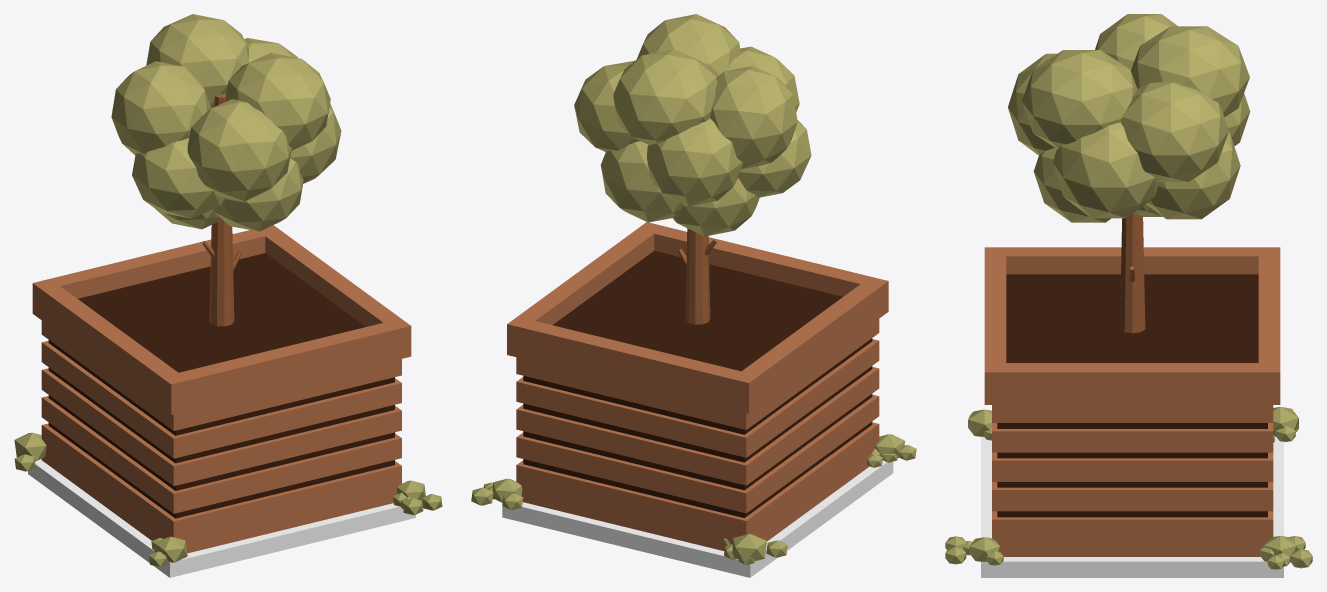
Rendered from 38-tree-planter-box-bs2.glb.
3 views of the same model, side by side, from view 1: azimuth 30°, elevation 25°; view 2: azimuth 150°, elevation 25°; view 3: azimuth 270°, elevation 25° (orthographic). The views are drawn at different scales.
Parts seen in each view (by area): view 1: SoilInside, RimS, Slat3, Slat4, Slat2, Slat1, SoilBed, Lobe6, GrooveCore, Lobe4, Lobe3, Slat5 (+13 smaller); view 2: SoilInside, RimN, Slat2, Slat4, Slat3, Slat1, SoilBed, Lobe2, GrooveCore, Lobe4, Slat5, RimW (+12 smaller); view 3: SoilInside, RimE, SoilBed, Lobe3, Lobe5, Slat2, GrooveCore, Lobe8, Slat4, Slat3, Slat1, Lobe2 (+15 smaller).
Boxes of the visible parts, x1,y1,x2,y2 form: SoilInside: (78, 253, 365, 372); RimS: (161, 318, 411, 414); Slat3: (41, 368, 401, 486); Slat4: (41, 340, 401, 458); Slat2: (41, 396, 401, 513); Slat1: (41, 423, 401, 539); SoilBed: (28, 459, 415, 577); Lobe6: (187, 99, 291, 201); GrooveCore: (48, 340, 394, 518); Lobe4: (111, 61, 211, 155); Lobe3: (225, 53, 330, 150); Slat5: (41, 320, 401, 430); SoilInside: (553, 250, 842, 371); RimN: (507, 316, 758, 413); Slat2: (516, 394, 879, 513); Slat4: (516, 339, 879, 457); Slat3: (516, 367, 879, 485); Slat1: (516, 422, 879, 537); SoilBed: (502, 460, 893, 577); Lobe2: (613, 49, 717, 145); GrooveCore: (523, 338, 872, 517); Lobe4: (710, 66, 797, 169); Slat5: (516, 319, 879, 429); RimW: (742, 284, 878, 406); SoilInside: (1006, 274, 1258, 362); RimE: (1006, 363, 1258, 404); SoilBed: (981, 436, 1283, 577); Lobe3: (1021, 50, 1137, 149); Lobe5: (1121, 82, 1228, 181); Slat2: (992, 482, 1273, 511); GrooveCore: (997, 423, 1267, 517); Lobe8: (1052, 122, 1159, 218); Slat4: (992, 423, 1273, 452); Slat3: (992, 452, 1273, 481); Slat1: (992, 511, 1273, 540); Lobe2: (1131, 26, 1249, 116).
Size of the model in its own units: 1.99 by 2.98 by 2.04.
